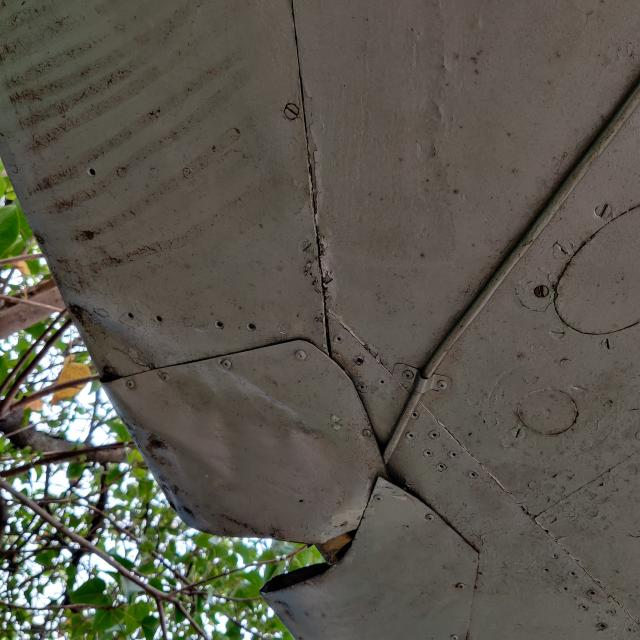dent: (54, 282, 356, 524)
